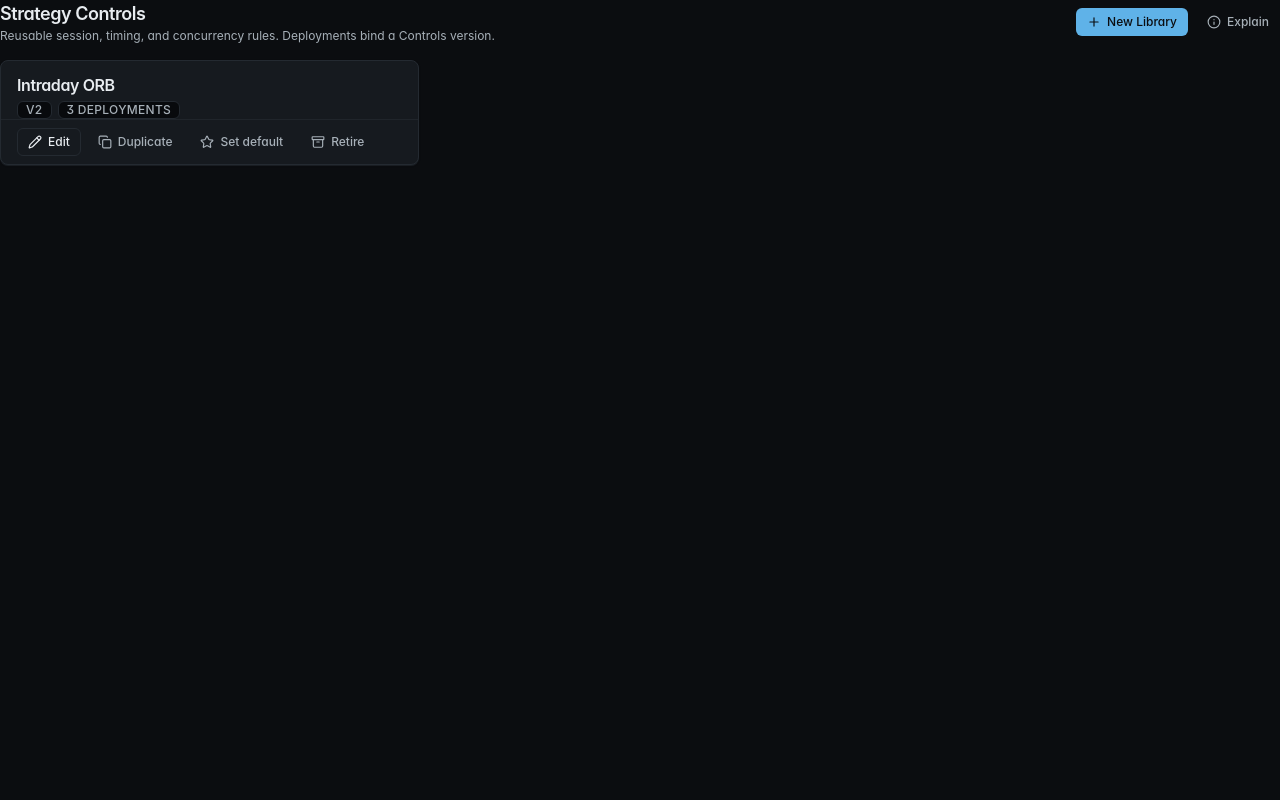
Test: <StrategyControls /> › opens retire confirm dialog
The image size is (1280, 800).
Expected: the text "Intraday ORB" is shown, [17,75,115,95]
Click the button "Retire" at (338, 142), box [300,128,375,156]
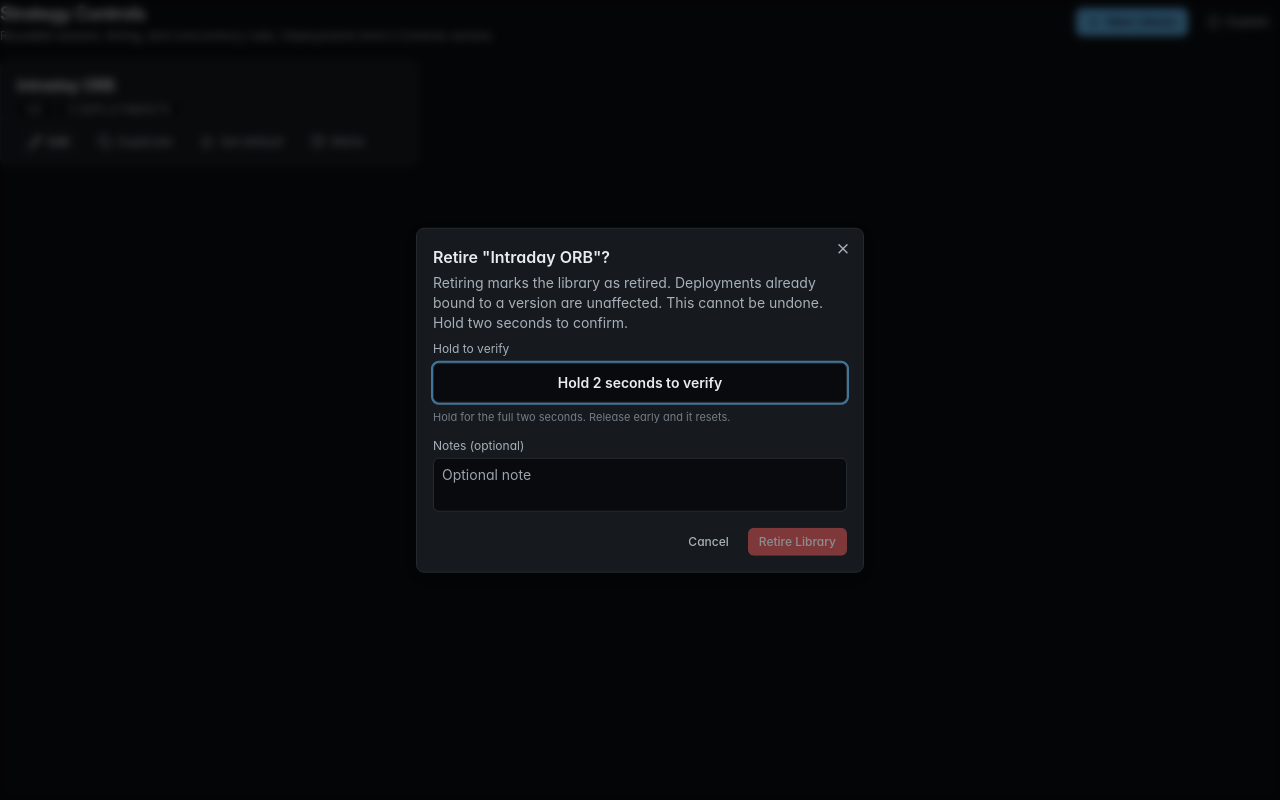
Now the heading "Retire \"Intraday ORB\"?" is shown, box [433,247,610,267]
